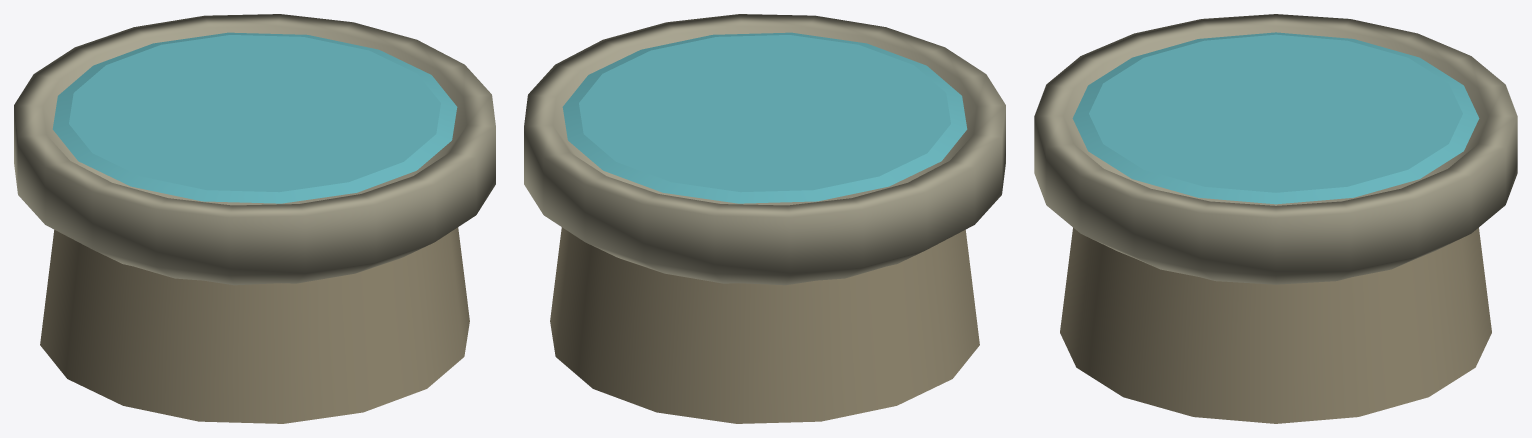
The model's file is fixture-zebra-water-v01.glb.
3 renders of one model, left to right at view 1: azimuth 30°, elevation 25°; view 2: azimuth 150°, elevation 25°; view 3: azimuth 270°, elevation 25°, orthographic.
Visible parts, largest first — view 1: post, surface, bowl; view 2: post, surface, bowl; view 3: post, surface, bowl.
Boxes of the visible parts, bbox=[...] form: post: bbox=[40, 227, 469, 423]; surface: bbox=[52, 32, 457, 203]; bowl: bbox=[14, 14, 495, 285]; post: bbox=[550, 227, 979, 423]; surface: bbox=[562, 32, 967, 203]; bowl: bbox=[524, 14, 1005, 285]; post: bbox=[1060, 227, 1491, 423]; surface: bbox=[1072, 32, 1479, 204]; bowl: bbox=[1034, 14, 1517, 284].
Bounding box in the file's own units: 0.38 × 0.19 × 0.38.
